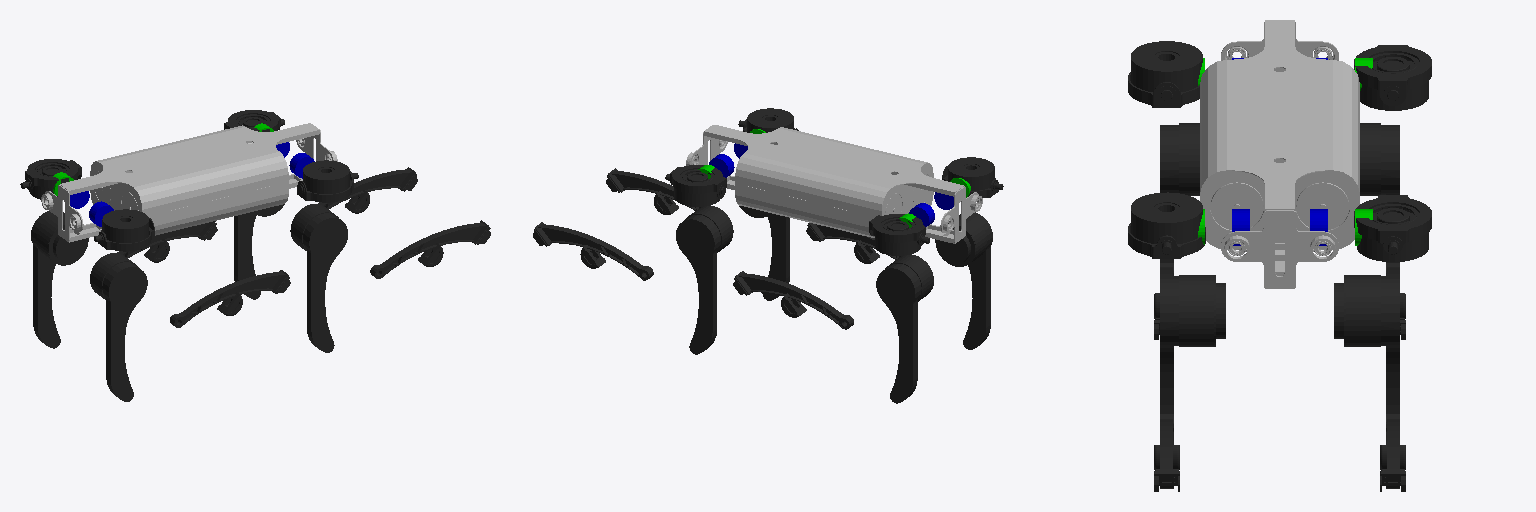
--- Render facts (derived) ---
3 views of the same robot in one strip: view 1: azimuth 30°, elevation 25°; view 2: azimuth 150°, elevation 25°; view 3: azimuth 270°, elevation 25° (orthographic).
Robot: aliengo — 31 links, 30 joints (12 revolute, 18 fixed); root link base; default pose: all joints at 0 but 4 set to mid-range because 0 is outside their limits (FR_calf_joint = -1.69, FL_calf_joint = -1.69, RR_calf_joint = -1.69, RL_calf_joint = -1.69).
Links seen in each view (by area): view 1: body, RR_thigh, FR_thigh, RL_thigh, FR_hip, RR_hip, FR_calf, RR_calf, FL_thigh, RL_hip, FL_calf, FL_hip (+1 smaller); view 2: body, RL_thigh, FL_thigh, RR_thigh, RL_hip, FL_hip, RL_calf, FL_calf, FR_thigh, RR_hip, FR_calf, FR_hip (+1 smaller); view 3: body, FR_thigh, FL_thigh, FR_hip, RR_hip, FL_hip, RL_hip, RL_thigh, RR_thigh, FR_calf, FL_calf.
Boxes of the visible links, box(x1,y1,x2,y2) form: body: box(41, 123, 337, 242); RR_thigh: box(90, 253, 147, 401); FR_thigh: box(290, 204, 347, 352); RL_thigh: box(31, 211, 88, 348); FR_hip: box(297, 160, 358, 202); RR_hip: box(94, 209, 154, 251); FR_calf: box(370, 220, 490, 278); RR_calf: box(170, 270, 290, 327); FL_thigh: box(234, 204, 284, 299); RL_hip: box(20, 159, 81, 199); FL_calf: box(318, 167, 417, 209); FL_hip: box(224, 110, 284, 131); body: box(686, 125, 982, 243); RL_thigh: box(876, 254, 933, 403); FL_thigh: box(676, 205, 733, 354); RR_thigh: box(935, 212, 992, 349); RL_hip: box(869, 214, 929, 255); FL_hip: box(665, 165, 726, 206); RL_calf: box(733, 271, 853, 329); FL_calf: box(533, 222, 653, 280); FR_thigh: box(739, 206, 789, 300); RR_hip: box(942, 157, 1003, 197); FR_calf: box(606, 168, 700, 210); FR_hip: box(738, 108, 798, 132); body: box(1200, 20, 1359, 288); FR_thigh: box(1160, 275, 1225, 488); FL_thigh: box(1334, 275, 1399, 488); FR_hip: box(1128, 192, 1205, 258); RR_hip: box(1128, 41, 1202, 107); FL_hip: box(1354, 195, 1431, 261); RL_hip: box(1354, 45, 1431, 110); RL_thigh: box(1360, 123, 1399, 262); RR_thigh: box(1160, 123, 1199, 262); FR_calf: box(1154, 414, 1179, 491); FL_calf: box(1380, 414, 1405, 491).
Bounding box of the posed robot: 1.06 × 0.4623 × 0.4974 m (x, y, z).
Meshes: 17 distinct files referenced, 17 mesh visuals loaded (17 binary STL).

robot.urdf — aliengo:
<?xml version='1.0' encoding='utf-8'?>
<robot name="aliengo">
  
  
  
  
  
  
  
  
  
  
  
  
  
  
  
  
  
  
  
  
  
  
  
  
  <material name="darkgray">
    <color rgba="0.1 0.1 0.1 1.0" />
  </material>
  <material name="silver">
    <color rgba="0.3 0.3 0.3 1.0" />
  </material>
  <material name="red">
    <color rgba="0.8 0.0 0.2 1.0" />
  </material>
  <material name="blue">
    <color rgba="0.0 0.0 0.8 1.0" />
  </material>
  <material name="green">
    <color rgba="0.0 0.8 0.0 1.0" />
  </material>
  <material name="grey">
    <color rgba="0.2 0.2 0.2 1.0" />
  </material>
  <material name="orange">
    <color rgba="1.0 0.4235294117647059 0.0392156862745098 1.0" />
  </material>
  <material name="white">
    <color rgba="0.752941176470588 0.752941176470588 0.752941176470588 1" />
  </material>
  <link name="base">
    <visual>
      <origin rpy="0 0 0" xyz="0 0 0" />
      <geometry>
        <box size="0.001 0.001 0.001" />
      </geometry>
    </visual>
  <collision><geometry /><origin rpy="0 0 0" xyz="0 0 0" /></collision></link>
  <joint name="floating_base" type="fixed">
    <origin rpy="0 0 0" xyz="0 0 0" />
    <parent link="base" />
    <child link="body" />
  </joint>
  
  <link name="body">
    <visual>
      <origin rpy="0 0 0" xyz="0 0 0" />
      <geometry>
        <mesh filename="trunk.STL" />
      </geometry>
      <material name="white" />
    </visual>
    <inertial>
      <mass value="7.644" />
      
      <origin rpy="0 0 0" xyz="0.0 0.0 0.0" />
      
      <inertia ixx="0.05256248" ixy="0.0" ixz="-0.00026788" iyy="0.25653482" iyz="-0.00000258" izz="0.28262267" />
    </inertial>
    
    <collision>
      <origin rpy="0 0 0" xyz="0 0 0" />
      <geometry>
        <box size="0.647 0.244 0.1335" />
      </geometry>
    </collision>
  </link>
  <joint name="imu_joint" type="fixed">
    <parent link="body" />
    <child link="imu_link" />
    <origin rpy="0 0 0" xyz="0 0 0" />
  </joint>
  <link name="imu_link">
    <inertial>
      <mass value="0.001" />
      <origin rpy="0 0 0" xyz="0 0 0" />
      <inertia ixx="0.0001" ixy="0" ixz="0" iyy="0.000001" iyz="0" izz="0.0001" />
    </inertial>
    <visual>
      <origin rpy="0 0 0" xyz="0 0 0" />
      <geometry>
        <box size="0.001 0.001 0.001" />
      </geometry>
      <material name="red" />
    </visual>
    <collision>
      <origin rpy="0 0 0" xyz="0 0 0" />
      <geometry>
        <box size=".001 .001 .001" />
      </geometry>
    </collision>
  </link>
  
  
  
  <link name="FR_hip">
    <visual>
      
      <origin rpy="1.570796326795 0 0" xyz="0 -0.10665 0" />
      <geometry>
        <mesh filename="FR_hip.STL" />
      </geometry>
      <material name="grey" />
    </visual>
    <collision>
      <origin rpy="1.570796326795 0 0" xyz="0 -0.10665 0" />
      <geometry>
        <cylinder length="0.03" radius="0.055" />
      </geometry>
    </collision>
    <inertial>
      <mass value="0.33072" />
      <origin rpy="0 0 0" xyz="-0.0 -0.10665 0" />
      <inertia ixx="0.00027491" ixy="-0.0" ixz="0.0" iyy="0.00050021" iyz="-0.0" izz="0.00027491" />
    </inertial>
  </link>
  
  <joint name="FR_hip_joint" type="revolute">
    <parent link="body" />
    <child link="FR_hip" />
    <axis xyz="1 0 0" />
    <origin rpy="0 0 0" xyz="0.2717 -0.065 0" />
    <limit effort="54" lower="-0.873" upper="1.047" velocity="20" />
    <dynamics damping="0.0" friction="0.0" />
  </joint>
  <link name="FR_hip_motor">
    <visual>
      <origin rpy="0 1.570796326795 0" xyz="0 0 0" />
      <geometry>
        <cylinder length="0.0285" radius="0.025" />
      </geometry>
      <material name="red" />
    </visual>
    <collision>
      <origin rpy="0 1.570796326795 0" xyz="0 0 0" />
      <geometry>
        <cylinder length="0.057" radius="0.05" />
      </geometry>
    </collision>
    <inertial>
      <mass value="1" />
      <origin rpy="0 0 0" xyz="0.0 0.0 0.0" />
      <inertia ixx="0.00114696" ixy="0.0" ixz="0.0" iyy="0.00072987" iyz="0.0" izz="0.00072987" />
    </inertial>
  </link>
  <joint name="FR_hip_motor_joint" type="fixed">
    <parent link="body" />
    <child link="FR_hip_motor" />
    <origin rpy="0 0 0" xyz="0.17524 -0.065 0" />
  </joint>
  
  <link name="FR_thigh">
    <visual>
      
      <origin rpy="0 0 0" xyz="0 0 -0.14" />
      <geometry>
        <mesh filename="FR_thigh.STL" />
      </geometry>
      <material name="grey" />
    </visual>
    <collision>
      <origin rpy="0 0 0" xyz="0 0 -0.14" />
      <geometry>
        <box size=" 0.063 0.03 0.28" />
      </geometry>
    </collision>
    <inertial>
      <origin rpy="0 0 0" xyz="0.01329397 0.00102971 -0.13226127" />
      <mass value="0.4583" />
      <inertia ixx="  0.00896040" ixy="7.13e-06" ixz="0.00032774" iyy="0.00924735" iyz="8.695e-05" izz="0.00043370" />
    </inertial>
  </link>
  
  <joint name="FR_thigh_joint" type="revolute">
    <parent link="FR_hip" />
    <child link="FR_thigh" />
    <axis xyz="0 1 0" />
    <origin rpy="0 0 0" xyz="0 -0.10665 0" />
    
    <limit effort="54" lower="-0.524" upper="3.927" velocity="20" />
    <dynamics damping="0.0" friction="0.0" />
  </joint>
  <link name="FR_thigh_motor">
    <visual>
      <origin rpy="1.570796326795  0 0" xyz="0 0 0" />
      <geometry>
        <cylinder length="0.0275" radius="0.0275" />
      </geometry>
      <material name="blue" />
    </visual>
    <collision>
      <origin rpy="1.570796326795  0 0" xyz="0 0 0" />
      <geometry>
        <cylinder length="0.055" radius="0.055" />
      </geometry>
    </collision>
    <inertial>
      <mass value="1.53" />
      <origin rpy="0 0 0" xyz="0.0 0.0 0.0" />
      <inertia ixx="  0.00162624" ixy=" 0.0" ixz="  0.0" iyy=" 0.00273756" iyz=" 0.0" izz="  0.00162624" />
    </inertial>
  </link>
  
  <joint name="FR_thigh_motor_joint" type="fixed">
    <parent link="FR_hip" />
    <child link="FR_thigh_motor" />
    <origin rpy="0 0 0" xyz="0 0.00545 0" />
    
  </joint>
  
  <link name="FR_calf">
    <visual>
      
      <origin rpy="0 0 0" xyz="0 0 -0.14" />
      <geometry>
        <mesh filename="FR_calf.STL" />
        
      </geometry>
      <material name="grey" />
    </visual>
    <collision>
      <origin rpy="0 0 0" xyz="0 0 -0.14" />
      <geometry>
        <box size=" 0.039 0.02 0.28" />
      </geometry>
    </collision>
    <inertial>
      <mass value="0.19385" />
      <origin rpy="0 0 0" xyz="0.01008102 -0.00043559 -0.14922844" />
      <inertia ixx="  0.00257525" ixy=" 0.00000130" ixz="  -0.00002219" iyy="  0.00259869" iyz=" 0.00001178" izz=" 0.00004838" />
    </inertial>
  </link>
  
  <joint name="FR_calf_joint" type="revolute">
    <parent link="FR_thigh" />
    <child link="FR_calf" />
    <origin rpy="0 0 0" xyz="0 0 -0.28" />
    
    <axis xyz="0 1 0" />
    <limit effort="54" lower="-2.775" upper="-0.611" velocity="20" />
    <dynamics damping="0.0" friction="0.0" />
  </joint>
  <link name="FR_calf_motor">
    <visual>
      <origin rpy="1.570796326795 0 0" xyz="0 0 0" />
      <geometry>
        <cylinder length="0.0275" radius="0.0275" />
      </geometry>
      <material name="green" />
    </visual>
    <collision>
      <origin rpy="1.570796326795 0 0" xyz="0 0 0" />
      <geometry>
        <cylinder length="0.055" radius="0.055" />
      </geometry>
    </collision>
    <inertial>
      <mass value="1.53" />
      <origin rpy="0 0 0" xyz="0.0 0.0 0.0" />
      <inertia ixx="  0.00162624" ixy=" 0.0" ixz="  0.0" iyy=" 0.00273756" iyz=" 0.0" izz="  0.00162624" />
    </inertial>
  </link>
  
  <joint name="FR_calf_motor_joint" type="fixed">
    <parent link="FR_thigh" />
    <child link="FR_calf_motor" />
    <origin rpy="0 0 0" xyz="0 0.0446 0" />
    
  </joint>
  
  <link name="FR_foot">
    <contact>
      <friction_anchor />
      <stiffness value="30000.0" />
      <damping value="1000.0" />
      <spinning_friction value="0.3" />
      <lateral_friction value="3.0" />
    </contact>
    <visual>
      <origin rpy="0 0 0" xyz="0 0 0" />
      <geometry>
        <mesh filename="FR_foot.STL" />
      </geometry>
      <material name="grey" />
    </visual>
    <collision>
      <origin rpy="0 0 0" xyz="0 0 0" />
      <geometry>
        <sphere radius="0.03" />
      </geometry>
    </collision>
    <inertial>
      <mass value="0.06" />
      <origin rpy="0 0 0" xyz="0.01047879 -0 -0.00857377" />
      <inertia ixx=" 0.00001796" ixy="0.0" ixz="-0.00000542" iyy=" 0.00001858" iyz=" 0.0" izz="0.00001577" />
    </inertial>
  </link>
  <joint dont_collapse="true" name="FR_foot_fixed" type="fixed">
    <parent link="FR_calf" />
    <child link="FR_foot" />
    <origin rpy="0 0 0" xyz="0 0 -0.28" />
  </joint>
  
  <link name="FL_hip">
    <visual>
      
      <origin rpy="1.570796326795 0 0" xyz="0 0.10665 0" />
      <geometry>
        <mesh filename="FL_hip.STL" />
      </geometry>
      <material name="grey" />
    </visual>
    <collision>
      <origin rpy="1.570796326795 0 0" xyz="0 0.10665 0" />
      <geometry>
        <cylinder length="0.03" radius="0.055" />
      </geometry>
    </collision>
    <inertial>
      <mass value="0.33072" />
      <origin rpy="0 0 0" xyz="-0.0 0.10665 0" />
      <inertia ixx="0.00027491" ixy="0.0" ixz="0.0" iyy="0.00050021" iyz="0.0" izz="0.00027491" />
    </inertial>
  </link>
  
  <joint name="FL_hip_joint" type="revolute">
    <parent link="body" />
    <child link="FL_hip" />
    <axis xyz="1 0 0" />
    <origin rpy="0 0 0" xyz="0.2717 0.065 0" />
    <limit effort="54" lower="-0.873" upper="1.047" velocity="20" />
    <dynamics damping="0.0" friction="0.0" />
  </joint>
  <link name="FL_hip_motor">
    <visual>
      <origin rpy="0 1.570796326795 0" xyz="0 0 0" />
      <geometry>
        <cylinder length="0.0285" radius="0.025" />
      </geometry>
      <material name="red" />
    </visual>
    <collision>
      <origin rpy="0 1.570796326795 0" xyz="0 0 0" />
      <geometry>
        <cylinder length="0.057" radius="0.05" />
      </geometry>
    </collision>
    <inertial>
      <mass value="1" />
      <origin rpy="0 0 0" xyz="0.0 0.0 0.0" />
      <inertia ixx="0.00114696" ixy="0.0" ixz="0.0" iyy="0.00072987" iyz="0.0" izz="0.00072987" />
    </inertial>
  </link>
  <joint name="FL_hip_motor_joint" type="fixed">
    <parent link="body" />
    <child link="FL_hip_motor" />
    <origin rpy="0 0 0" xyz="0.17524 0.065 0" />
  </joint>
  
  <link name="FL_thigh">
    <visual>
      
      <origin rpy="0 0 0" xyz="0 0 -0.14" />
      <geometry>
        <mesh filename="FL_thigh.STL" />
      </geometry>
      <material name="grey" />
    </visual>
    <collision>
      <origin rpy="0 0 0" xyz="0 0 -0.14" />
      <geometry>
        <box size=" 0.063 0.03 0.28" />
      </geometry>
    </collision>
    <inertial>
      <origin rpy="0 0 0" xyz="0.01329397 -0.00102971 -0.13226127" />
      <mass value="0.4583" />
      <inertia ixx="  0.00896040" ixy="-7.13e-06" ixz="0.00032774" iyy="0.00924735" iyz="-8.695e-05" izz="0.00043370" />
    </inertial>
  </link>
  
  <joint name="FL_thigh_joint" type="revolute">
    <parent link="FL_hip" />
    <child link="FL_thigh" />
    <axis xyz="0 1 0" />
    <origin rpy="0 0 0" xyz="0 0.10665 0" />
    
    <limit effort="54" lower="-0.524" upper="3.927" velocity="20" />
    <dynamics damping="0.0" friction="0.0" />
  </joint>
  <link name="FL_thigh_motor">
    <visual>
      <origin rpy="1.570796326795  0 0" xyz="0 0 0" />
      <geometry>
        <cylinder length="0.0275" radius="0.0275" />
      </geometry>
      <material name="blue" />
    </visual>
    <collision>
      <origin rpy="1.570796326795  0 0" xyz="0 0 0" />
      <geometry>
        <cylinder length="0.055" radius="0.055" />
      </geometry>
    </collision>
    <inertial>
      <mass value="1.53" />
      <origin rpy="0 0 0" xyz="0.0 0.0 0.0" />
      <inertia ixx="  0.00162624" ixy=" 0.0" ixz="  0.0" iyy=" 0.00273756" iyz=" 0.0" izz="  0.00162624" />
    </inertial>
  </link>
  
  <joint name="FL_thigh_motor_joint" type="fixed">
    <parent link="FL_hip" />
    <child link="FL_thigh_motor" />
    <origin rpy="0 0 0" xyz="0 -0.00545 0" />
    
  </joint>
  
  <link name="FL_calf">
    <visual>
      
      <origin rpy="0 0 0" xyz="0 0 -0.14" />
      <geometry>
        <mesh filename="FL_calf.STL" />
        
      </geometry>
      <material name="grey" />
    </visual>
    <collision>
      <origin rpy="0 0 0" xyz="0 0 -0.14" />
      <geometry>
        <box size=" 0.039 0.02 0.28" />
      </geometry>
    </collision>
    <inertial>
      <mass value="0.19385" />
      <origin rpy="0 0 0" xyz="0.01008102 -0.00043559 -0.14922844" />
      <inertia ixx="  0.00257525" ixy=" 0.00000130" ixz="  -0.00002219" iyy="  0.00259869" iyz=" 0.00001178" izz=" 0.00004838" />
    </inertial>
  </link>
  
  <joint name="FL_calf_joint" type="revolute">
    <parent link="FL_thigh" />
    <child link="FL_calf" />
    <origin rpy="0 0 0" xyz="0 0 -0.28" />
    
    <axis xyz="0 1 0" />
    <limit effort="54" lower="-2.775" upper="-0.611" velocity="20" />
    <dynamics damping="0.0" friction="0.0" />
  </joint>
  <link name="FL_calf_motor">
    <visual>
      <origin rpy="1.570796326795 0 0" xyz="0 0 0" />
      <geometry>
        <cylinder length="0.0275" radius="0.0275" />
      </geometry>
      <material name="green" />
    </visual>
    <collision>
      <origin rpy="1.570796326795 0 0" xyz="0 0 0" />
      <geometry>
        <cylinder length="0.055" radius="0.055" />
      </geometry>
    </collision>
    <inertial>
      <mass value="1.53" />
      <origin rpy="0 0 0" xyz="0.0 0.0 0.0" />
      <inertia ixx="  0.00162624" ixy=" 0.0" ixz="  0.0" iyy=" 0.00273756" iyz=" 0.0" izz="  0.00162624" />
    </inertial>
  </link>
  
  <joint name="FL_calf_motor_joint" type="fixed">
    <parent link="FL_thigh" />
    <child link="FL_calf_motor" />
    <origin rpy="0 0 0" xyz="0 -0.0446 0" />
    
  </joint>
  
  <link name="FL_foot">
    <contact>
      <friction_anchor />
      <stiffness value="30000.0" />
      <damping value="1000.0" />
      <spinning_friction value="0.3" />
      <lateral_friction value="3.0" />
    </contact>
    <visual>
      <origin rpy="0 0 0" xyz="0 0 0" />
      <geometry>
        <mesh filename="FL_foot.STL" />
      </geometry>
      <material name="grey" />
    </visual>
    <collision>
      <origin rpy="0 0 0" xyz="0 0 0" />
      <geometry>
        <sphere radius="0.03" />
      </geometry>
    </collision>
    <inertial>
      <mass value="0.06" />
      <origin rpy="0 0 0" xyz="0.01047879 -0 -0.00857377" />
      <inertia ixx=" 0.00001796" ixy="0.0" ixz="-0.00000542" iyy=" 0.00001858" iyz=" 0.0" izz="0.00001577" />
    </inertial>
  </link>
  <joint dont_collapse="true" name="FL_foot_fixed" type="fixed">
    <parent link="FL_calf" />
    <child link="FL_foot" />
    <origin rpy="0 0 0" xyz="0 0 -0.28" />
  </joint>
  
  <link name="RR_hip">
    <visual>
      
      <origin rpy="1.570796326795 0 0" xyz="0 -0.10665 0" />
      <geometry>
        <mesh filename="RR_hip.STL" />
      </geometry>
      <material name="grey" />
    </visual>
    <collision>
      <origin rpy="1.570796326795 0 0" xyz="0 -0.10665 0" />
      <geometry>
        <cylinder length="0.03" radius="0.055" />
      </geometry>
    </collision>
    <inertial>
      <mass value="0.33072" />
      <origin rpy="0 0 0" xyz="0.0 -0.10665 0" />
      <inertia ixx="0.00027491" ixy="0.0" ixz="-0.0" iyy="0.00050021" iyz="-0.0" izz="0.00027491" />
    </inertial>
  </link>
  
  <joint name="RR_hip_joint" type="revolute">
    <parent link="body" />
    <child link="RR_hip" />
    <axis xyz="1 0 0" />
    <origin rpy="0 0 0" xyz="-0.2717 -0.065 0" />
    <limit effort="54" lower="-0.873" upper="1.047" velocity="20" />
    <dynamics damping="0.0" friction="0.0" />
  </joint>
  <link name="RR_hip_motor">
    <visual>
      <origin rpy="0 1.570796326795 0" xyz="0 0 0" />
      <geometry>
        <cylinder length="0.0285" radius="0.025" />
      </geometry>
      <material name="red" />
    </visual>
    <collision>
      <origin rpy="0 1.570796326795 0" xyz="0 0 0" />
      <geometry>
        <cylinder length="0.057" radius="0.05" />
      </geometry>
    </collision>
    <inertial>
      <mass value="1" />
      <origin rpy="0 0 0" xyz="0.0 0.0 0.0" />
      <inertia ixx="0.00114696" ixy="0.0" ixz="0.0" iyy="0.00072987" iyz="0.0" izz="0.00072987" />
    </inertial>
  </link>
  <joint name="RR_hip_motor_joint" type="fixed">
    <parent link="body" />
    <child link="RR_hip_motor" />
    <origin rpy="0 0 0" xyz="-0.17524 -0.065 0" />
  </joint>
  
  <link name="RR_thigh">
    <visual>
      
      <origin rpy="0 0 0" xyz="0 0 -0.14" />
      <geometry>
        <mesh filename="RR_thigh.STL" />
      </geometry>
      <material name="grey" />
    </visual>
    <collision>
      <origin rpy="0 0 0" xyz="0 0 -0.14" />
      <geometry>
        <box size=" 0.063 0.03 0.28" />
      </geometry>
    </collision>
    <inertial>
      <origin rpy="0 0 0" xyz="0.01329397 0.00102971 -0.13226127" />
      <mass value="0.4583" />
      <inertia ixx="  0.00896040" ixy="7.13e-06" ixz="0.00032774" iyy="0.00924735" iyz="8.695e-05" izz="0.00043370" />
    </inertial>
  </link>
  
  <joint name="RR_thigh_joint" type="revolute">
    <parent link="RR_hip" />
    <child link="RR_thigh" />
    <axis xyz="0 1 0" />
    <origin rpy="0 0 0" xyz="0 -0.10665 0" />
    
    <limit effort="54" lower="-0.524" upper="3.927" velocity="20" />
    <dynamics damping="0.0" friction="0.0" />
  </joint>
  <link name="RR_thigh_motor">
    <visual>
      <origin rpy="1.570796326795  0 0" xyz="0 0 0" />
      <geometry>
        <cylinder length="0.0275" radius="0.0275" />
      </geometry>
      <material name="blue" />
    </visual>
    <collision>
      <origin rpy="1.570796326795  0 0" xyz="0 0 0" />
      <geometry>
        <cylinder length="0.055" radius="0.055" />
      </geometry>
    </collision>
    <inertial>
      <mass value="1.53" />
      <origin rpy="0 0 0" xyz="0.0 0.0 0.0" />
      <inertia ixx="  0.00162624" ixy=" 0.0" ixz="  0.0" iyy=" 0.00273756" iyz=" 0.0" izz="  0.00162624" />
    </inertial>
  </link>
  
  <joint name="RR_thigh_motor_joint" type="fixed">
    <parent link="RR_hip" />
    <child link="RR_thigh_motor" />
    <origin rpy="0 0 0" xyz="0 0.00545 0" />
    
  </joint>
  
  <link name="RR_calf">
    <visual>
      
      <origin rpy="0 0 0" xyz="0 0 -0.14" />
      <geometry>
        <mesh filename="RR_calf.STL" />
        
      </geometry>
      <material name="grey" />
    </visual>
    <collision>
      <origin rpy="0 0 0" xyz="0 0 -0.14" />
      <geometry>
        <box size=" 0.039 0.02 0.28" />
      </geometry>
    </collision>
    <inertial>
      <mass value="0.19385" />
      <origin rpy="0 0 0" xyz="0.01008102 -0.00043559 -0.14922844" />
      <inertia ixx="  0.00257525" ixy=" 0.00000130" ixz="  -0.00002219" iyy="  0.00259869" iyz=" 0.00001178" izz=" 0.00004838" />
    </inertial>
  </link>
  
  <joint name="RR_calf_joint" type="revolute">
    <parent link="RR_thigh" />
    <child link="RR_calf" />
    <origin rpy="0 0 0" xyz="0 0 -0.28" />
    
    <axis xyz="0 1 0" />
    <limit effort="54" lower="-2.775" upper="-0.611" velocity="20" />
    <dynamics damping="0.0" friction="0.0" />
  </joint>
  <link name="RR_calf_motor">
    <visual>
      <origin rpy="1.570796326795 0 0" xyz="0 0 0" />
      <geometry>
        <cylinder length="0.0275" radius="0.0275" />
      </geometry>
      <material name="green" />
    </visual>
    <collision>
      <origin rpy="1.570796326795 0 0" xyz="0 0 0" />
      <geometry>
        <cylinder length="0.055" radius="0.055" />
      </geometry>
    </collision>
    <inertial>
      <mass value="1.53" />
      <origin rpy="0 0 0" xyz="0.0 0.0 0.0" />
      <inertia ixx="  0.00162624" ixy=" 0.0" ixz="  0.0" iyy=" 0.00273756" iyz=" 0.0" izz="  0.00162624" />
    </inertial>
  </link>
  
  <joint name="RR_calf_motor_joint" type="fixed">
    <parent link="RR_thigh" />
    <child link="RR_calf_motor" />
    <origin rpy="0 0 0" xyz="0 0.0446 0" />
    
  </joint>
  
  <link name="RR_foot">
    <contact>
      <friction_anchor />
      <stiffness value="30000.0" />
      <damping value="1000.0" />
      <spinning_friction value="0.3" />
      <lateral_friction value="3.0" />
    </contact>
    <visual>
      <origin rpy="0 0 0" xyz="0 0 0" />
      <geometry>
        <mesh filename="RR_foot.STL" />
      </geometry>
      <material name="grey" />
    </visual>
    <collision>
      <origin rpy="0 0 0" xyz="0 0 0" />
      <geometry>
        <sphere radius="0.03" />
      </geometry>
    </collision>
    <inertial>
      <mass value="0.06" />
      <origin rpy="0 0 0" xyz="0.01047879 -0 -0.00857377" />
      <inertia ixx=" 0.00001796" ixy="0.0" ixz="-0.00000542" iyy=" 0.00001858" iyz=" 0.0" izz="0.00001577" />
    </inertial>
  </link>
  <joint dont_collapse="true" name="RR_foot_fixed" type="fixed">
    <parent link="RR_calf" />
    <child link="RR_foot" />
    <origin rpy="0 0 0" xyz="0 0 -0.28" />
  </joint>
  
  <link name="RL_hip">
    <visual>
      
      <origin rpy="1.570796326795 0 0" xyz="0 0.10665 0" />
      <geometry>
        <mesh filename="RL_hip.STL" />
      </geometry>
      <material name="grey" />
    </visual>
    <collision>
      <origin rpy="1.570796326795 0 0" xyz="0 0.10665 0" />
      <geometry>
        <cylinder length="0.03" radius="0.055" />
      </geometry>
    </collision>
    <inertial>
      <mass value="0.33072" />
      <origin rpy="0 0 0" xyz="0.0 0.10665 0" />
      <inertia ixx="0.00027491" ixy="-0.0" ixz="-0.0" iyy="0.00050021" iyz="0.0" izz="0.00027491" />
    </inertial>
  </link>
  
  <joint name="RL_hip_joint" type="revolute">
    <parent link="body" />
    <child link="RL_hip" />
    <axis xyz="1 0 0" />
    <origin rpy="0 0 0" xyz="-0.2717 0.065 0" />
    <limit effort="54" lower="-0.873" upper="1.047" velocity="20" />
    <dynamics damping="0.0" friction="0.0" />
  </joint>
  <link name="RL_hip_motor">
    <visual>
      <origin rpy="0 1.570796326795 0" xyz="0 0 0" />
      <geometry>
        <cylinder length="0.0285" radius="0.025" />
      </geometry>
      <material name="red" />
    </visual>
    <collision>
      <origin rpy="0 1.570796326795 0" xyz="0 0 0" />
      <geometry>
        <cylinder length="0.057" radius="0.05" />
      </geometry>
    </collision>
    <inertial>
      <mass value="1" />
      <origin rpy="0 0 0" xyz="0.0 0.0 0.0" />
      <inertia ixx="0.00114696" ixy="0.0" ixz="0.0" iyy="0.00072987" iyz="0.0" izz="0.00072987" />
    </inertial>
  </link>
  <joint name="RL_hip_motor_joint" type="fixed">
    <parent link="body" />
    <child link="RL_hip_motor" />
    <origin rpy="0 0 0" xyz="-0.17524 0.065 0" />
  </joint>
  
  <link name="RL_thigh">
    <visual>
      
      <origin rpy="0 0 0" xyz="0 0 -0.14" />
      <geometry>
        <mesh filename="RL_thigh.STL" />
      </geometry>
      <material name="grey" />
    </visual>
    <collision>
      <origin rpy="0 0 0" xyz="0 0 -0.14" />
      <geometry>
        <box size=" 0.063 0.03 0.28" />
      </geometry>
    </collision>
    <inertial>
      <origin rpy="0 0 0" xyz="0.01329397 -0.00102971 -0.13226127" />
      <mass value="0.4583" />
      <inertia ixx="  0.00896040" ixy="-7.13e-06" ixz="0.00032774" iyy="0.00924735" iyz="-8.695e-05" izz="0.00043370" />
    </inertial>
  </link>
  
  <joint name="RL_thigh_joint" type="revolute">
    <parent link="RL_hip" />
    <child link="RL_thigh" />
    <axis xyz="0 1 0" />
    <origin rpy="0 0 0" xyz="0 0.10665 0" />
    
    <limit effort="54" lower="-0.524" upper="3.927" velocity="20" />
    <dynamics damping="0.0" friction="0.0" />
  </joint>
  <link name="RL_thigh_motor">
    <visual>
      <origin rpy="1.570796326795  0 0" xyz="0 0 0" />
      <geometry>
        <cylinder length="0.0275" radius="0.0275" />
      </geometry>
      <material name="blue" />
    </visual>
    <collision>
      <origin rpy="1.570796326795  0 0" xyz="0 0 0" />
      <geometry>
        <cylinder length="0.055" radius="0.055" />
      </geometry>
    </collision>
    <inertial>
      <mass value="1.53" />
      <origin rpy="0 0 0" xyz="0.0 0.0 0.0" />
      <inertia ixx="  0.00162624" ixy=" 0.0" ixz="  0.0" iyy=" 0.00273756" iyz=" 0.0" izz="  0.00162624" />
    </inertial>
  </link>
  
  <joint name="RL_thigh_motor_joint" type="fixed">
    <parent link="RL_hip" />
    <child link="RL_thigh_motor" />
    <origin rpy="0 0 0" xyz="0 -0.00545 0" />
    
  </joint>
  
  <link name="RL_calf">
    <visual>
      
      <origin rpy="0 0 0" xyz="0 0 -0.14" />
      <geometry>
        <mesh filename="RL_calf.STL" />
        
      </geometry>
      <material name="grey" />
    </visual>
    <collision>
      <origin rpy="0 0 0" xyz="0 0 -0.14" />
      <geometry>
        <box size=" 0.039 0.02 0.28" />
      </geometry>
    </collision>
    <inertial>
      <mass value="0.19385" />
      <origin rpy="0 0 0" xyz="0.01008102 -0.00043559 -0.14922844" />
      <inertia ixx="  0.00257525" ixy=" 0.00000130" ixz="  -0.00002219" iyy="  0.00259869" iyz=" 0.00001178" izz=" 0.00004838" />
    </inertial>
  </link>
  
  <joint name="RL_calf_joint" type="revolute">
    <parent link="RL_thigh" />
    <child link="RL_calf" />
    <origin rpy="0 0 0" xyz="0 0 -0.28" />
    
    <axis xyz="0 1 0" />
    <limit effort="54" lower="-2.775" upper="-0.611" velocity="20" />
    <dynamics damping="0.0" friction="0.0" />
  </joint>
  <link name="RL_calf_motor">
    <visual>
      <origin rpy="1.570796326795 0 0" xyz="0 0 0" />
      <geometry>
        <cylinder length="0.0275" radius="0.0275" />
      </geometry>
      <material name="green" />
    </visual>
    <collision>
      <origin rpy="1.570796326795 0 0" xyz="0 0 0" />
      <geometry>
        <cylinder length="0.055" radius="0.055" />
      </geometry>
    </collision>
    <inertial>
      <mass value="1.53" />
      <origin rpy="0 0 0" xyz="0.0 0.0 0.0" />
      <inertia ixx="  0.00162624" ixy=" 0.0" ixz="  0.0" iyy=" 0.00273756" iyz=" 0.0" izz="  0.00162624" />
    </inertial>
  </link>
  
  <joint name="RL_calf_motor_joint" type="fixed">
    <parent link="RL_thigh" />
    <child link="RL_calf_motor" />
    <origin rpy="0 0 0" xyz="0 -0.0446 0" />
    
  </joint>
  
  <link name="RL_foot">
    <contact>
      <friction_anchor />
      <stiffness value="30000.0" />
      <damping value="1000.0" />
      <spinning_friction value="0.3" />
      <lateral_friction value="3.0" />
    </contact>
    <visual>
      <origin rpy="0 0 0" xyz="0 0 0" />
      <geometry>
        <mesh filename="RL_foot.STL" />
      </geometry>
      <material name="grey" />
    </visual>
    <collision>
      <origin rpy="0 0 0" xyz="0 0 0" />
      <geometry>
        <sphere radius="0.03" />
      </geometry>
    </collision>
    <inertial>
      <mass value="0.06" />
      <origin rpy="0 0 0" xyz="0.01047879 -0 -0.00857377" />
      <inertia ixx=" 0.00001796" ixy="0.0" ixz="-0.00000542" iyy=" 0.00001858" iyz=" 0.0" izz="0.00001577" />
    </inertial>
  </link>
  <joint dont_collapse="true" name="RL_foot_fixed" type="fixed">
    <parent link="RL_calf" />
    <child link="RL_foot" />
    <origin rpy="0 0 0" xyz="0 0 -0.28" />
  </joint>
</robot>
